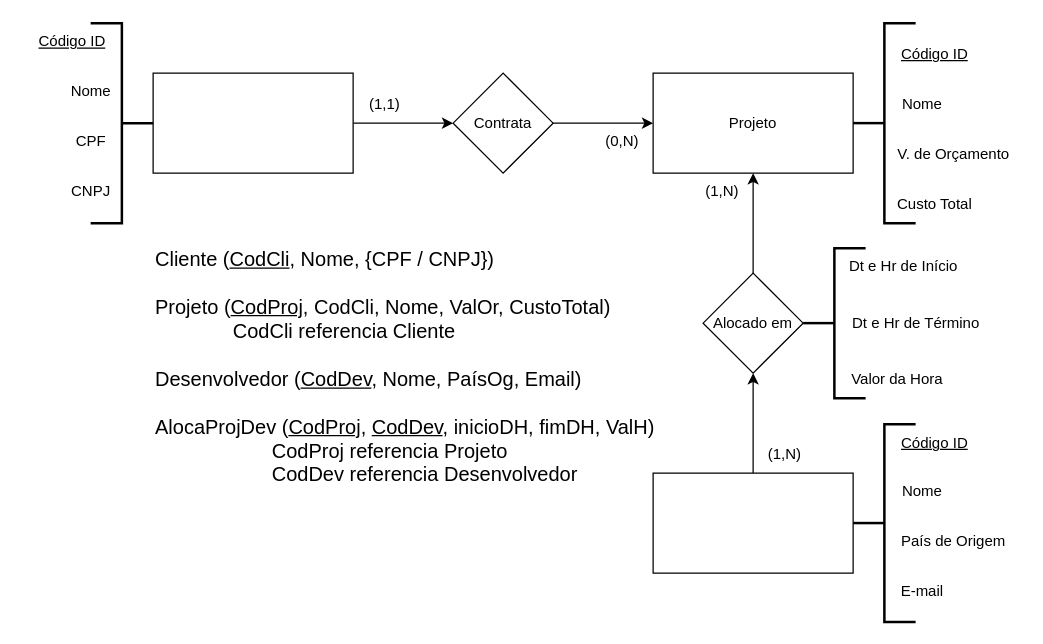
This 1043x644 diagram has some shape labels left out. Each missing label, with the box of its shape:
Cliente: (152, 72, 353, 173)
Desenvolvedor: (652, 472, 853, 573)
